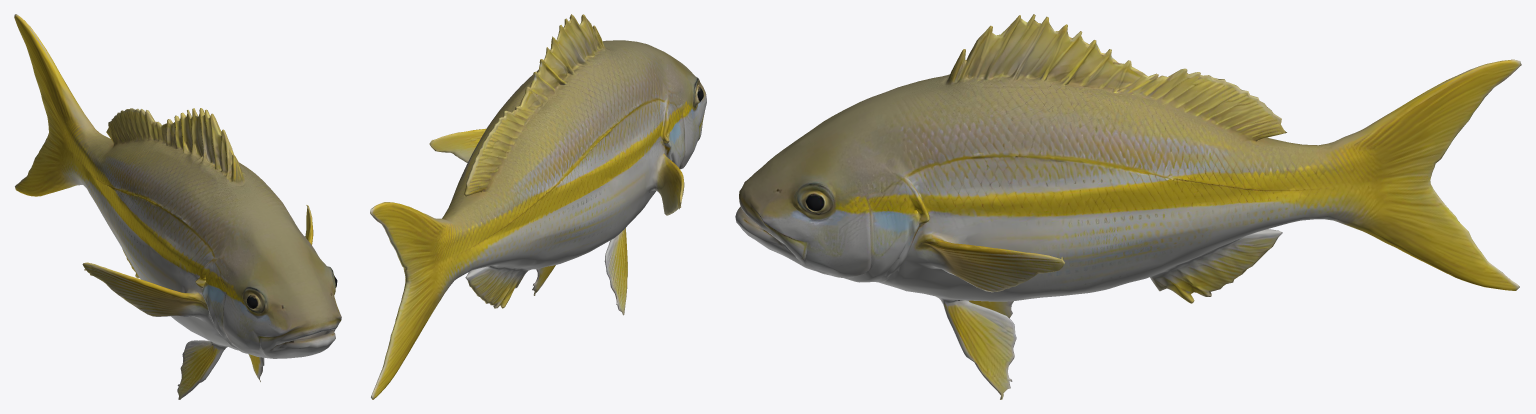
The model's file is snapper.glb.
3 views of the same model, side by side, from view 1: azimuth 30°, elevation 25°; view 2: azimuth 150°, elevation 25°; view 3: azimuth 270°, elevation 25° (orthographic). The views are drawn at different scales.
Parts seen in each view (by area): view 1: tripo_node_906ffebd-72a7-403c-a50d-b6b64fea2c8e; view 2: tripo_node_906ffebd-72a7-403c-a50d-b6b64fea2c8e; view 3: tripo_node_906ffebd-72a7-403c-a50d-b6b64fea2c8e.
Boxes of the visible parts, left/top/right/bottom form: tripo_node_906ffebd-72a7-403c-a50d-b6b64fea2c8e: left=14, top=14, right=341, bottom=399; tripo_node_906ffebd-72a7-403c-a50d-b6b64fea2c8e: left=370, top=14, right=706, bottom=399; tripo_node_906ffebd-72a7-403c-a50d-b6b64fea2c8e: left=735, top=14, right=1521, bottom=399.
Bounding box in the file's own units: 0.4406 × 0.5042 × 0.9998.
1 material, 1 textured.
